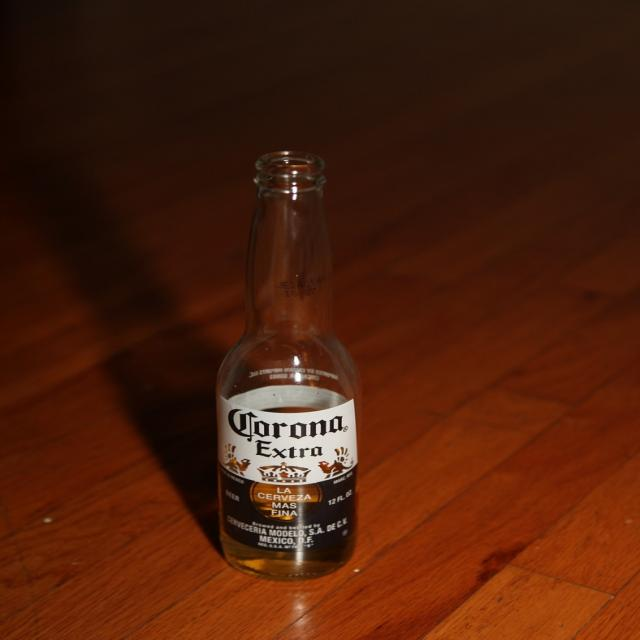corona: (219, 396, 359, 554)
